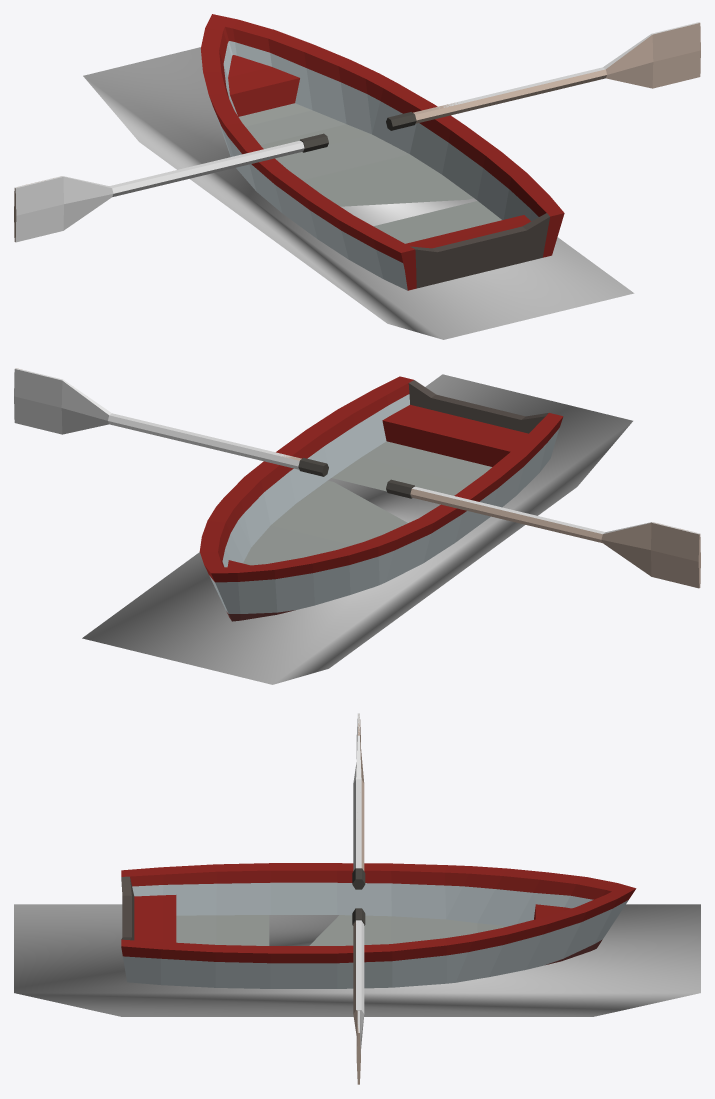
Rendered from Raft.001.fbx.
The picture shows the model from 3 angles, top to bottom: view 1: azimuth 30°, elevation 25°; view 2: azimuth 150°, elevation 25°; view 3: azimuth 270°, elevation 25°; orthographic projection. The views are drawn at different scales.
Parts seen in each view (by area): view 1: Raft.001, Raft.001.HULL, Paddle.002, Paddle.001.COL1, Raft.001.COL.017, Raft.001.COL, Paddle.001.COL2, Raft.001.COL.016, Raft.001.COL.015, Raft.001.COL.009, Raft.001.COL.014, Raft.001.COL.018 (+1 smaller); view 2: Raft.001.HULL, Raft.001, Paddle.001, Raft.001.COL.021, Raft.001.COL.009, Raft.001.COL, Paddle.002.COL1, Raft.001.COL.017, Raft.001.COL.018, Raft.001.COL.015, Paddle.002.COL2, Raft.001.COL.016 (+4 smaller); view 3: Raft.001.HULL, Raft.001, Raft.001.COL.016, Raft.001.COL.020, Raft.001.COL.019, Raft.001.COL.014, Raft.001.COL, Raft.001.COL.017, Raft.001.COL.009, Paddle.002.COL2, Paddle.001.COL2, Raft.001.COL.015 (+1 smaller).
Boxes of the visible parts, box(x1,y1,x2,y2) form: Raft.001: box(200, 14, 564, 290); Raft.001.HULL: box(83, 29, 634, 339); Paddle.002: box(413, 23, 700, 123); Paddle.001.COL1: box(15, 176, 113, 242); Raft.001.COL.017: box(442, 126, 527, 219); Raft.001.COL: box(374, 156, 501, 243); Paddle.001.COL2: box(109, 140, 304, 196); Raft.001.COL.016: box(246, 151, 352, 219); Raft.001.COL.015: box(503, 173, 563, 221); Raft.001.COL.009: box(405, 215, 530, 248); Raft.001.COL.014: box(339, 215, 414, 252); Raft.001.COL.018: box(209, 96, 256, 190); Raft.001.HULL: box(82, 374, 632, 684); Raft.001: box(199, 376, 562, 573); Paddle.001: box(410, 488, 700, 588); Raft.001.COL.021: box(211, 555, 350, 621); Raft.001.COL.009: box(382, 404, 528, 466); Raft.001.COL: box(300, 441, 491, 504); Paddle.002.COL1: box(14, 368, 111, 434); Raft.001.COL.017: box(276, 409, 360, 503); Raft.001.COL.018: box(349, 523, 433, 594); Raft.001.COL.015: box(338, 376, 412, 456); Paddle.002.COL2: box(108, 413, 299, 469); Raft.001.COL.016: box(423, 452, 525, 562); Raft.001.HULL: box(14, 904, 700, 1016); Raft.001: box(121, 863, 635, 988); Raft.001.COL.016: box(215, 863, 337, 915); Raft.001.COL.020: box(489, 889, 635, 976); Raft.001.COL.019: box(392, 934, 507, 987); Raft.001.COL.014: box(121, 864, 217, 915); Raft.001.COL: box(176, 915, 269, 945); Raft.001.COL.017: box(216, 945, 392, 988); Raft.001.COL.009: box(134, 895, 176, 942); Paddle.002.COL2: box(356, 920, 364, 1013); Paddle.001.COL2: box(353, 779, 361, 870); Raft.001.COL.015: box(121, 939, 216, 951).
Size of the model in its own units: 8.6 by 1.26 by 7.85.
1 material, 1 textured.
